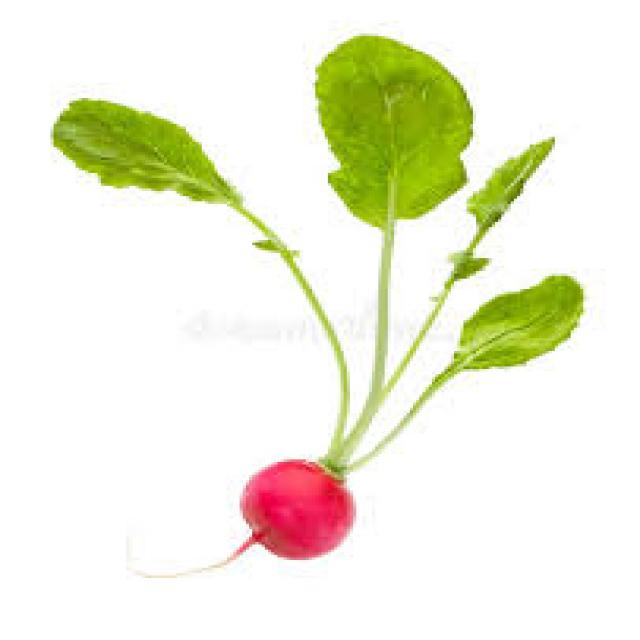organic waste: (50, 31, 577, 459), (309, 31, 470, 227), (129, 456, 350, 580), (50, 95, 234, 204), (429, 276, 580, 385), (444, 137, 552, 281)
